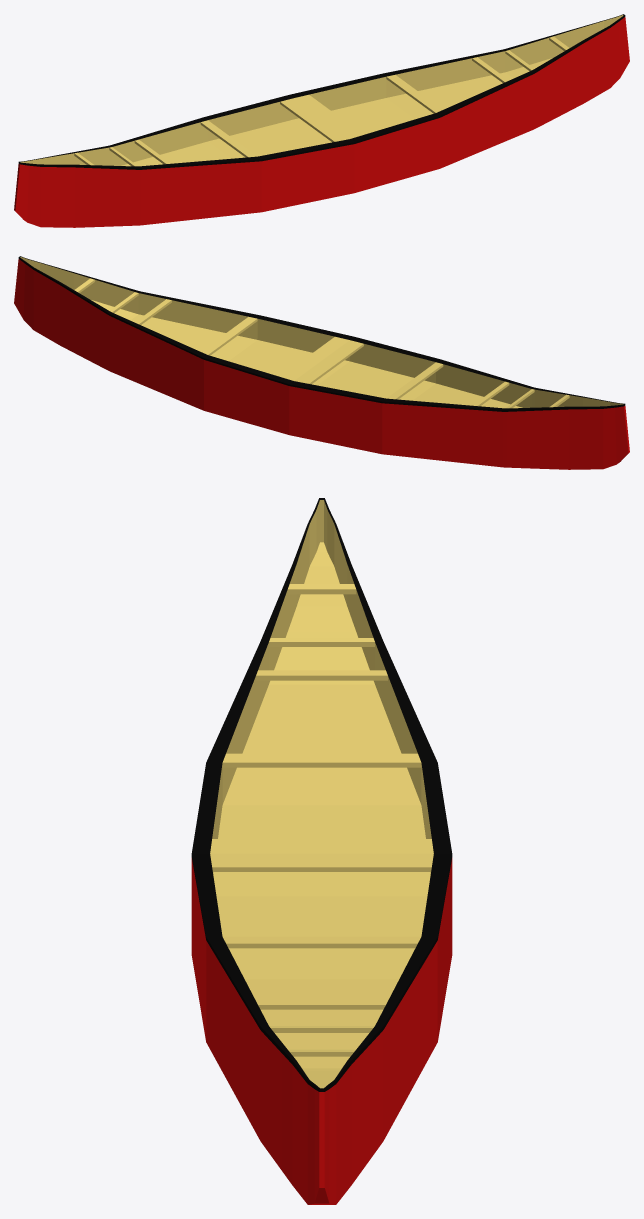
Rendered from Canoe.fbx.
3 renders of one model, top to bottom at view 1: azimuth 30°, elevation 25°; view 2: azimuth 150°, elevation 25°; view 3: azimuth 270°, elevation 25°, orthographic. The views are drawn at different scales.
Visible parts, largest first — view 1: Cube_0; view 2: Cube_0; view 3: Cube_0.
Part boxes in pixels (box(x1,y1,x2,y2)): Cube_0: box(14, 14, 629, 227); Cube_0: box(14, 256, 629, 469); Cube_0: box(191, 498, 452, 1204).
Bounding box in the file's own units: 1274 × 160 × 234.
